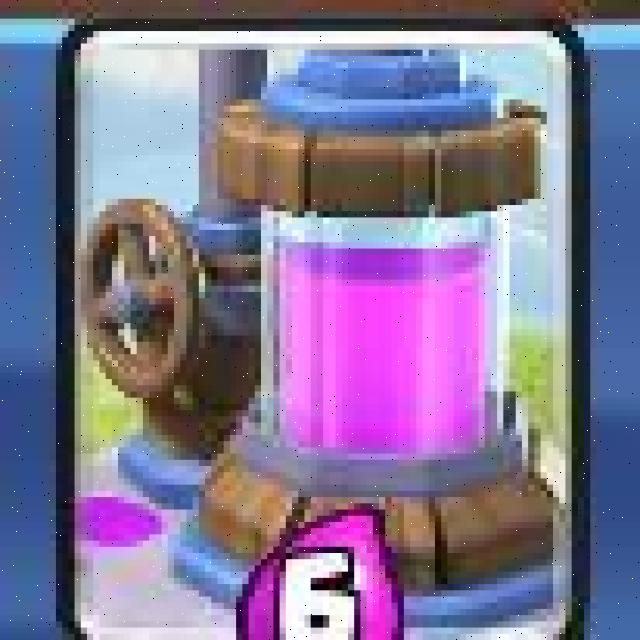Elixir_Pump: (51, 13, 589, 640)
